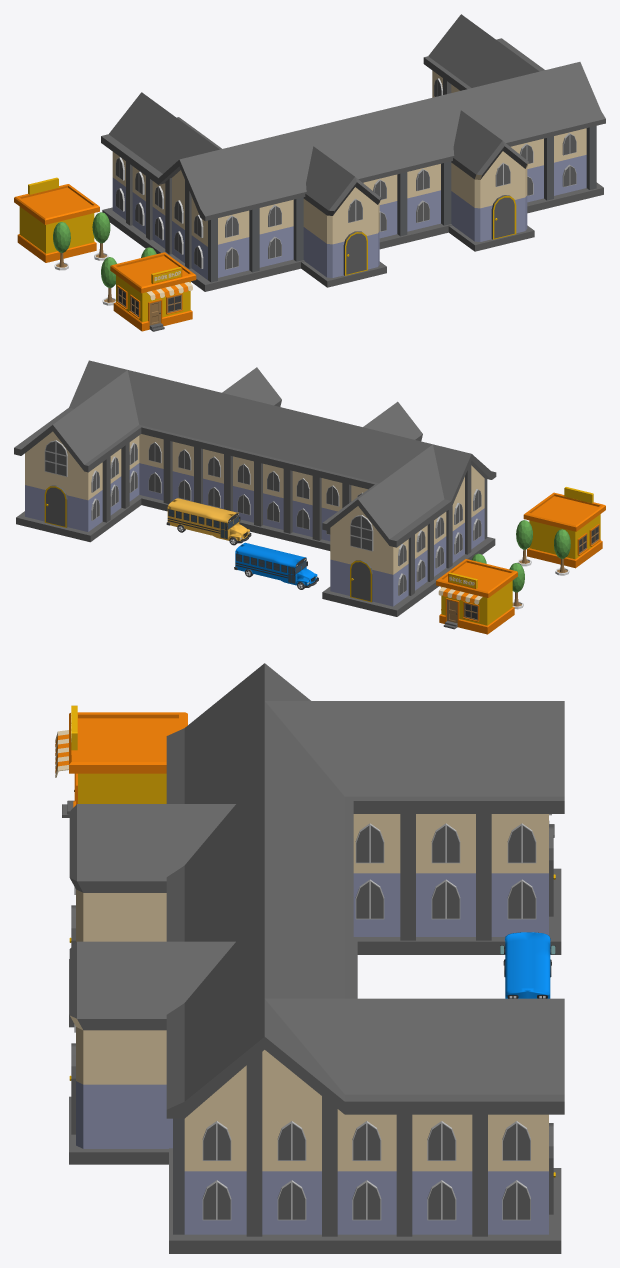
The model's file is School.fbx.
3 renders of one model, top to bottom at view 1: azimuth 30°, elevation 25°; view 2: azimuth 150°, elevation 25°; view 3: azimuth 270°, elevation 25°, orthographic. The views are drawn at different scales.
Parts seen in each view (by area): view 1: School Bus_2 Lod_0_Color Bloom.001_0; view 2: School Bus_2 Lod_0_Color Bloom.001_0; view 3: School Bus_2 Lod_0_Color Bloom.001_0.
Boxes of the visible parts, left/top/right/bottom form: School Bus_2 Lod_0_Color Bloom.001_0: left=14, top=14, right=605, bottom=331; School Bus_2 Lod_0_Color Bloom.001_0: left=14, top=360, right=605, bottom=634; School Bus_2 Lod_0_Color Bloom.001_0: left=55, top=663, right=564, bottom=1253.
Size of the model in its own units: 6098 by 1356 by 2861.
Materials: 2 (1 with a texture image).
